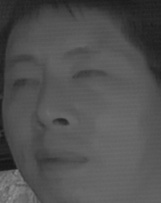eye: (69, 65, 108, 86), (9, 72, 42, 92)
mouth: (33, 143, 91, 179)
